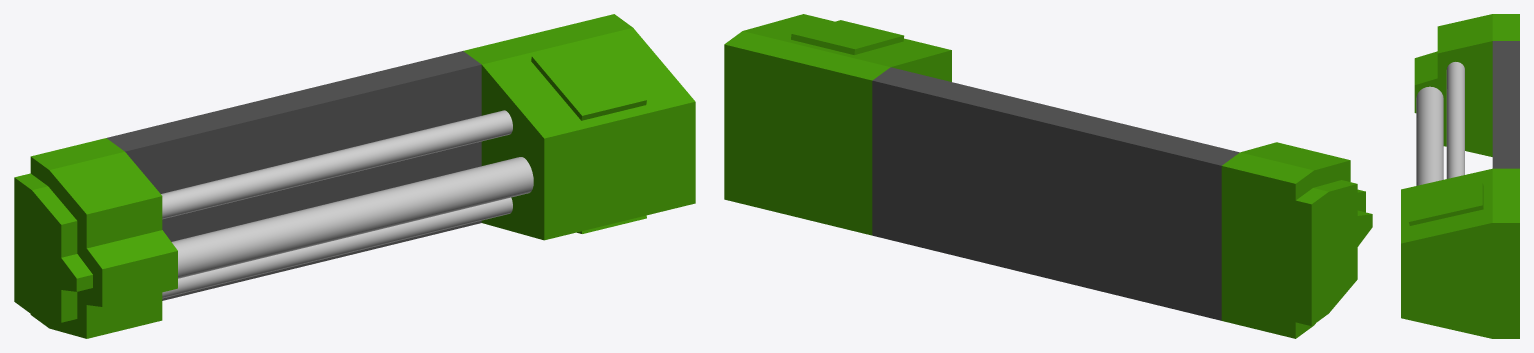
Rendered from cnc_rolling_machine_3_state_1.dae.
3 renders of one model, left to right at view 1: azimuth 30°, elevation 25°; view 2: azimuth 150°, elevation 25°; view 3: azimuth 270°, elevation 25°, orthographic. The views are drawn at different scales.
Visible parts, largest first — view 1: coords_ME_ID17_MA_material, coords_ME_ID25_MA_material_1, coords_ME_ID33_MA_material_1, coords_ME_ID45_MA_material_11, coords_ME_ID11_MA_material_11, coords_ME_ID3_MA_material_11, coords_ME_ID39_MA_material_1; view 2: coords_ME_ID17_MA_material, coords_ME_ID25_MA_material_1, coords_ME_ID33_MA_material_1, coords_ME_ID39_MA_material_1; view 3: coords_ME_ID25_MA_material_1, coords_ME_ID33_MA_material_1, coords_ME_ID17_MA_material, coords_ME_ID45_MA_material_11, coords_ME_ID11_MA_material_11, coords_ME_ID39_MA_material_1.
Boxes of the visible parts, x1=… form: coords_ME_ID17_MA_material: x1=107, y1=51, x2=481, y2=300; coords_ME_ID25_MA_material_1: x1=463, y1=14, x2=695, y2=240; coords_ME_ID33_MA_material_1: x1=14, y1=138, x2=177, y2=338; coords_ME_ID45_MA_material_11: x1=171, y1=157, x2=533, y2=278; coords_ME_ID11_MA_material_11: x1=161, y1=110, x2=512, y2=219; coords_ME_ID3_MA_material_11: x1=162, y1=197, x2=512, y2=298; coords_ME_ID39_MA_material_1: x1=531, y1=40, x2=646, y2=120; coords_ME_ID17_MA_material: x1=872, y1=67, x2=1239, y2=320; coords_ME_ID25_MA_material_1: x1=724, y1=14, x2=951, y2=235; coords_ME_ID33_MA_material_1: x1=1221, y1=142, x2=1372, y2=338; coords_ME_ID39_MA_material_1: x1=791, y1=20, x2=904, y2=54; coords_ME_ID25_MA_material_1: x1=1401, y1=168, x2=1519, y2=338; coords_ME_ID33_MA_material_1: x1=1414, y1=14, x2=1519, y2=156; coords_ME_ID17_MA_material: x1=1492, y1=41, x2=1519, y2=168; coords_ME_ID45_MA_material_11: x1=1416, y1=86, x2=1443, y2=185; coords_ME_ID11_MA_material_11: x1=1446, y1=62, x2=1464, y2=178; coords_ME_ID39_MA_material_1: x1=1408, y1=182, x2=1483, y2=225.
Size of the model in its own units: 69.92 by 18.25 by 16.38.
